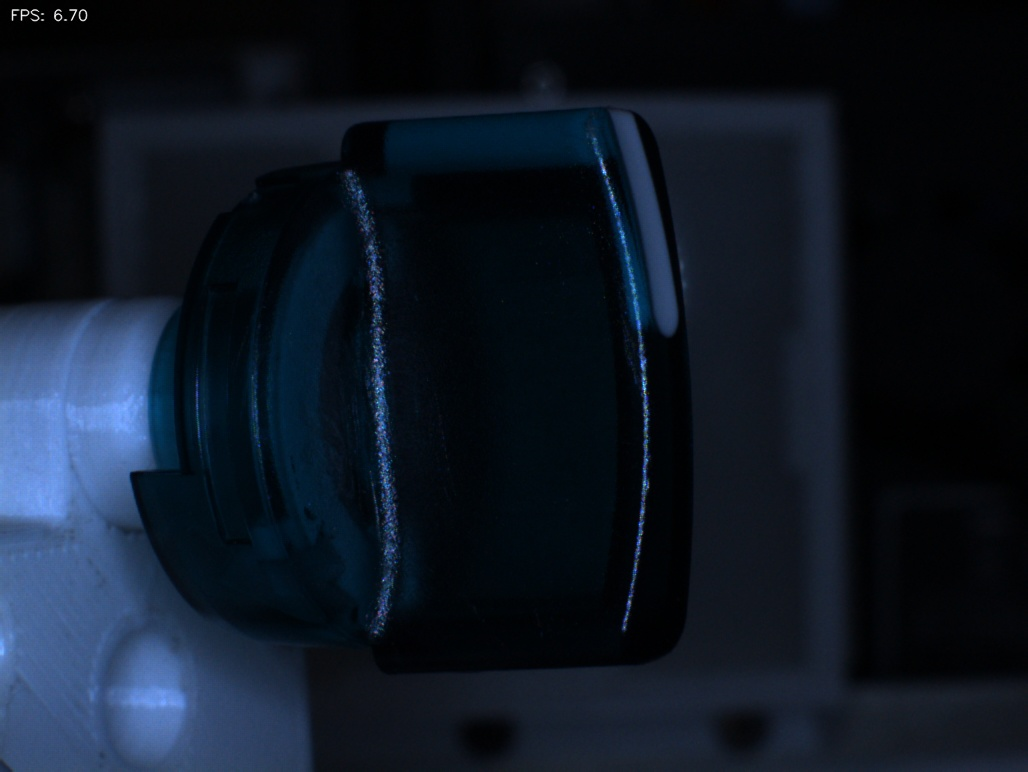Givrage: (404, 353, 479, 524), (298, 345, 370, 490)
